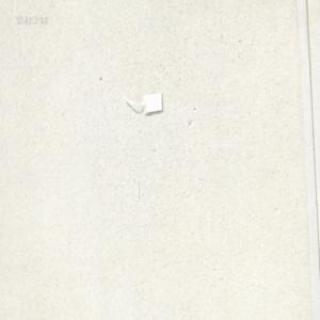LuggageTagtrack_idkeyframe: (121, 90, 162, 116)
